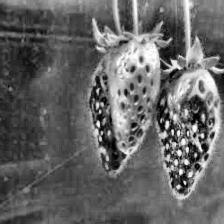Powdery Mildew Fruit: (88, 39, 160, 176), (154, 68, 221, 200)
